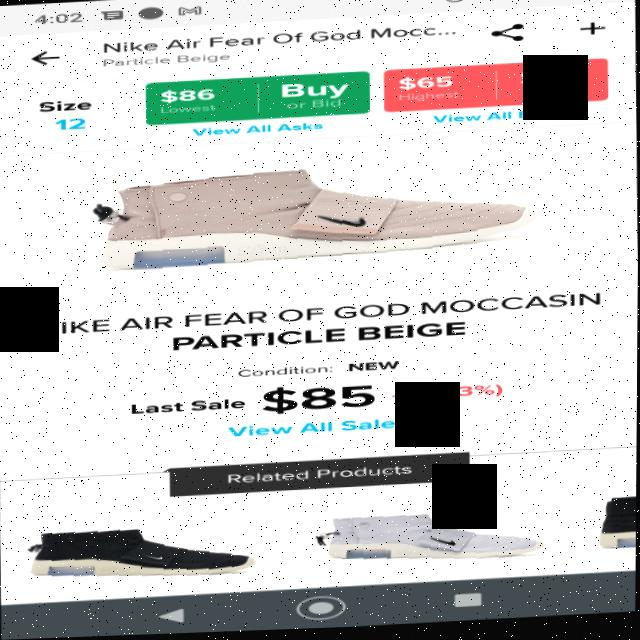shoe: (50, 150, 561, 292), (19, 503, 278, 589), (303, 492, 556, 579)
